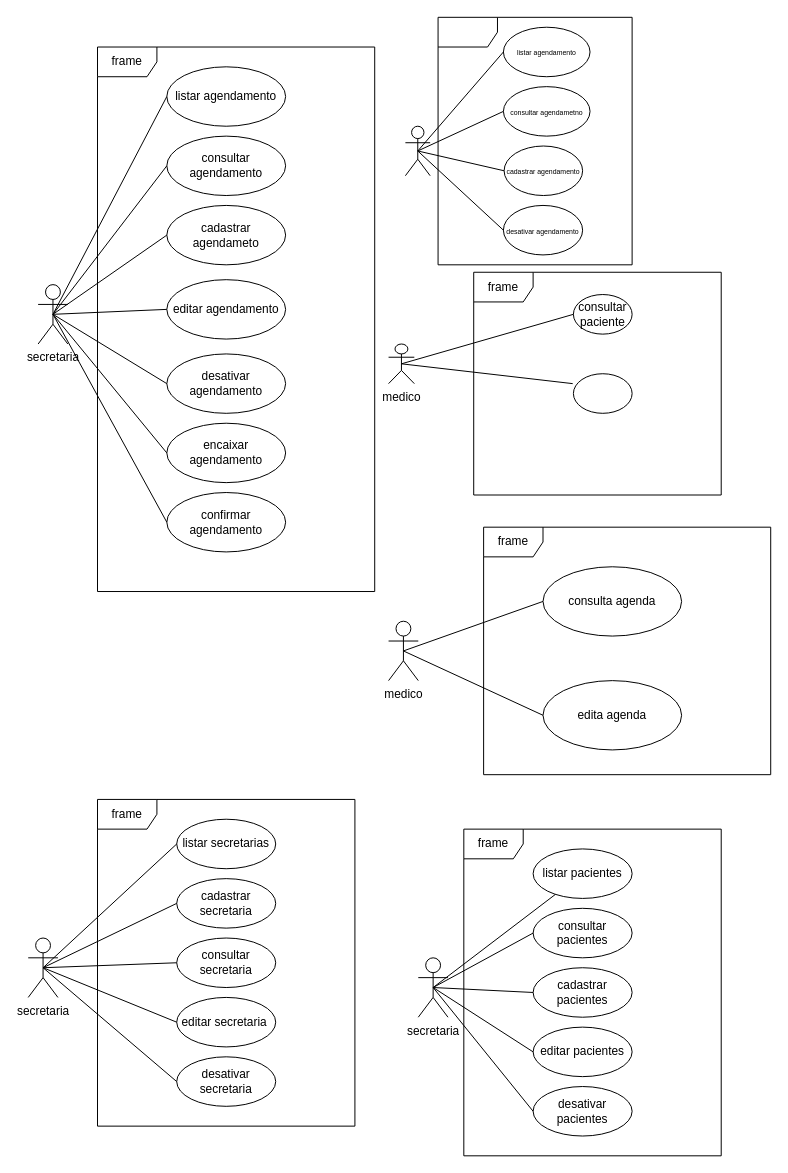
This 788x1173 diagram has some shape labels left out. The shapes that lost their labels are listed below. From the top down, each one's centre as x and y in pixels, then its label:
point (417, 150): paciente
point (602, 393): listar paciente
